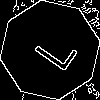L: (25, 25, 78, 74)
